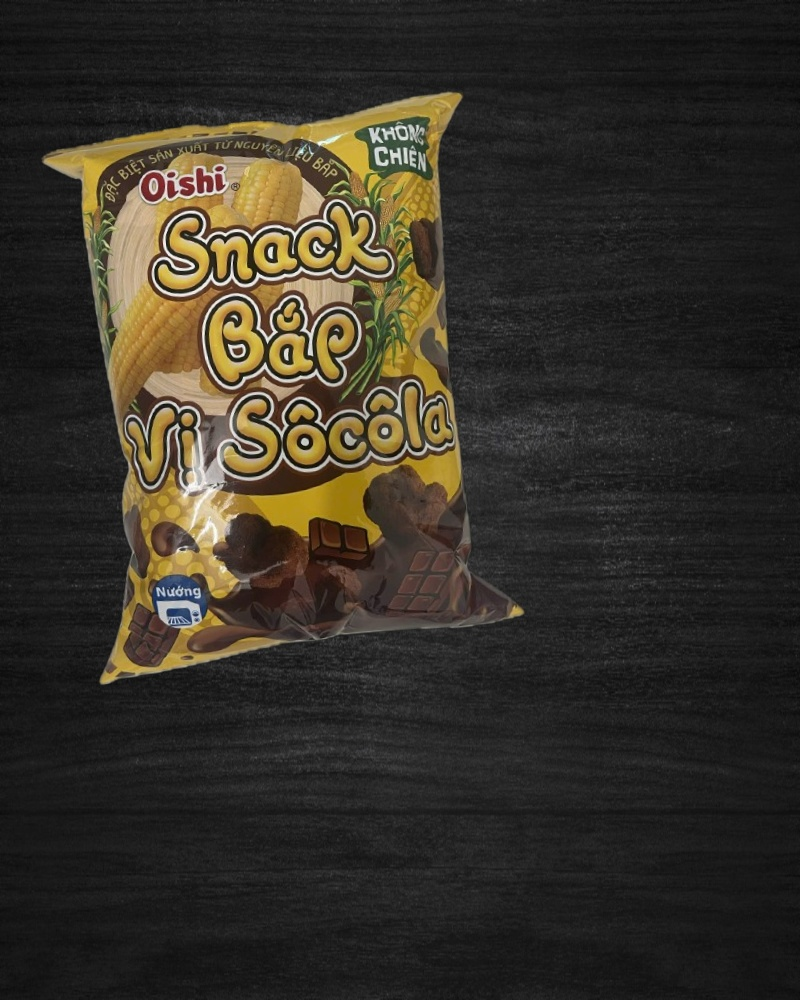Snack socola: (42, 93, 528, 674)
